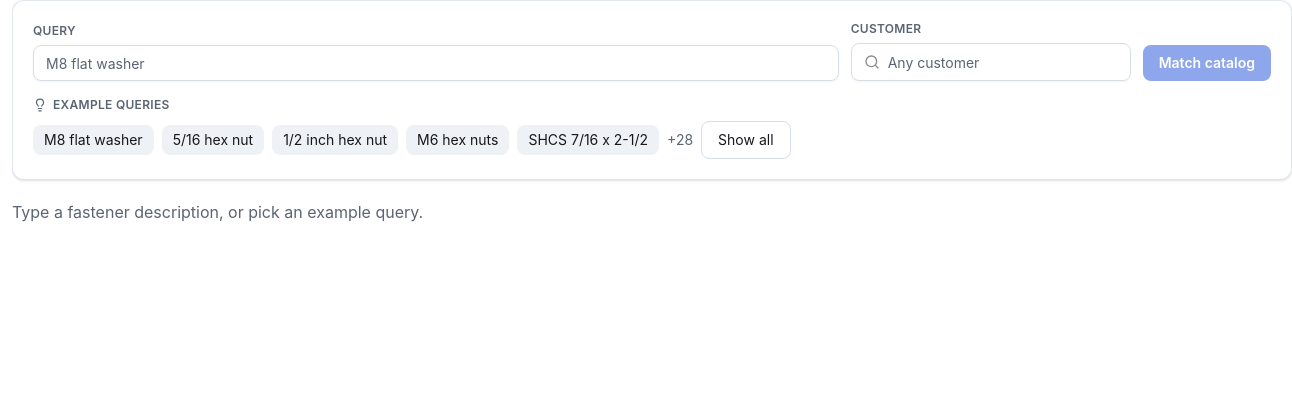
ResultsPanel › asks for a customer when a history reference arrives without one
In the field labelled "Query": coordinates (436, 63) [33,45,839,81], type "the same washers as last time"
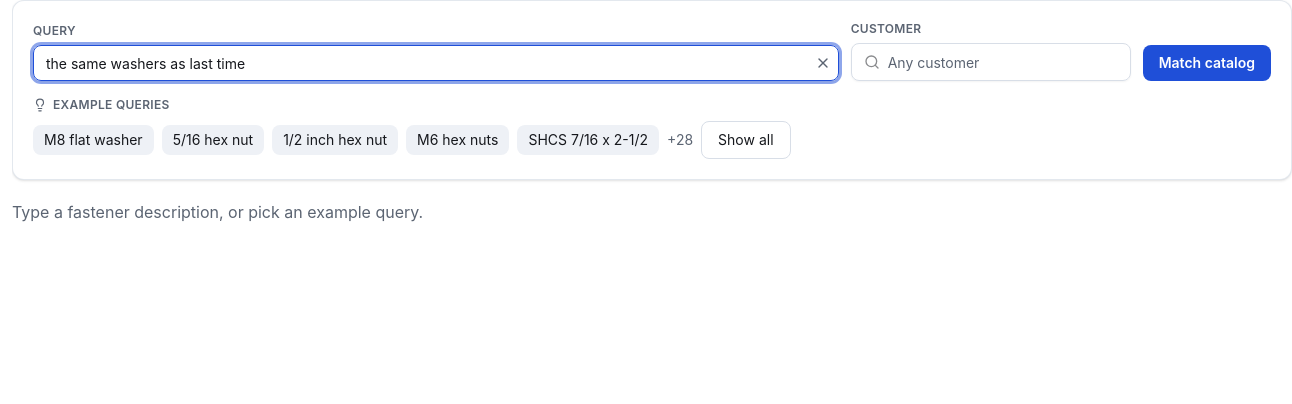
Click the button "Match catalog": coordinates (1207, 63) [1143,45,1271,81]
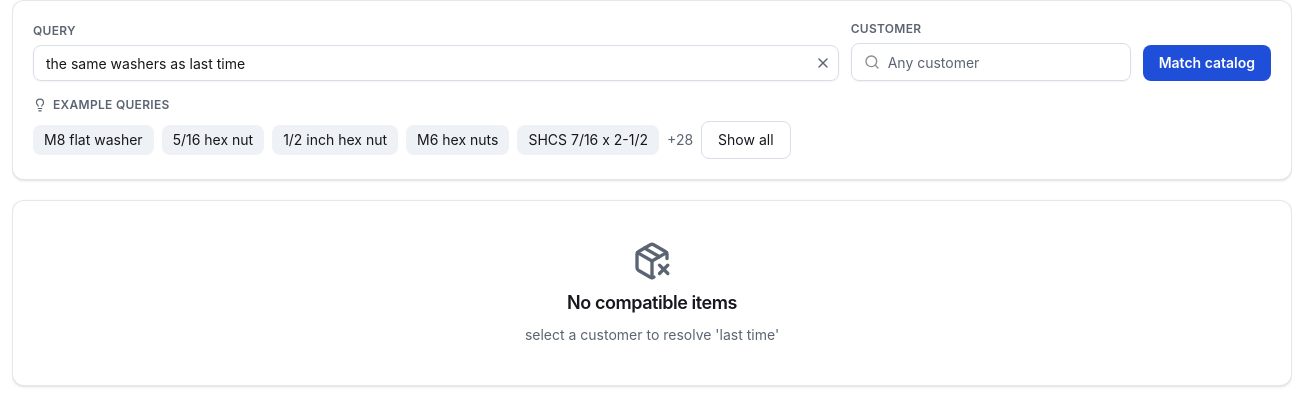
Now the text "select a customer to resolve 'last time'" is shown, box [525,325,779,345]
